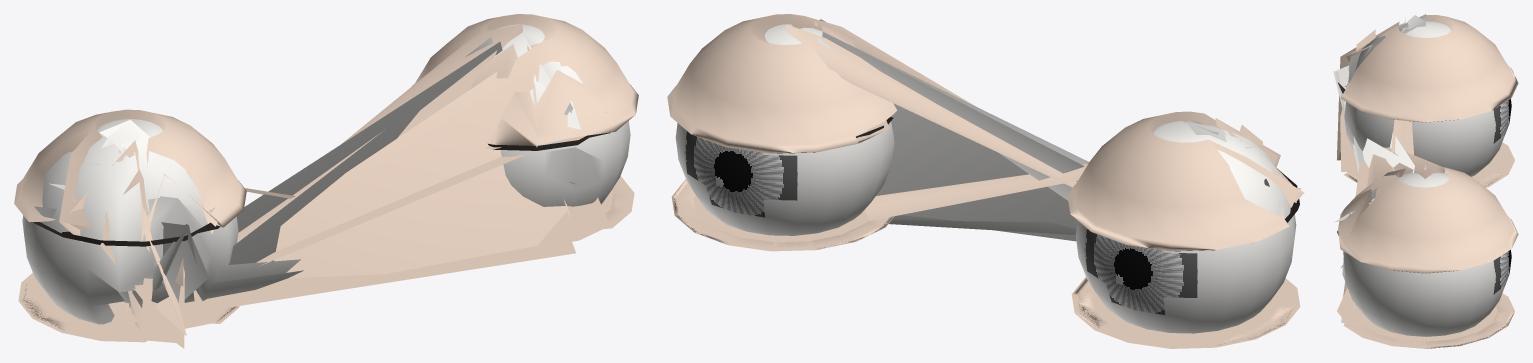
Rendered from gente.ojos.fbx.
3 renders of one model, left to right at view 1: azimuth 30°, elevation 25°; view 2: azimuth 150°, elevation 25°; view 3: azimuth 270°, elevation 25°, orthographic. The views are drawn at different scales.
Parts seen in each view (by area): view 1: Ojos; view 2: Ojos; view 3: Ojos.
Part boxes in pixels (x1=…): Ojos: x1=14, y1=14, x2=638, y2=348; Ojos: x1=667, y1=14, x2=1304, y2=348; Ojos: x1=1333, y1=14, x2=1518, y2=348.
Bounding box in the file's own units: 0.1092 × 0.0385 × 0.0373.
4 materials, 1 textured.
